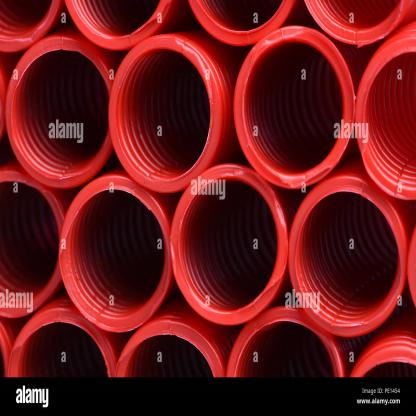PVC: (106, 30, 235, 195), (287, 162, 409, 336), (233, 25, 356, 194), (168, 161, 289, 326), (59, 168, 174, 334), (4, 26, 115, 189), (353, 15, 416, 204), (0, 159, 71, 321), (8, 293, 116, 382), (228, 308, 362, 378), (112, 306, 228, 378), (304, 0, 415, 50), (65, 1, 175, 51), (188, 0, 299, 49), (347, 324, 416, 380), (0, 0, 64, 57), (0, 316, 17, 384), (405, 225, 416, 306), (0, 58, 9, 140)
